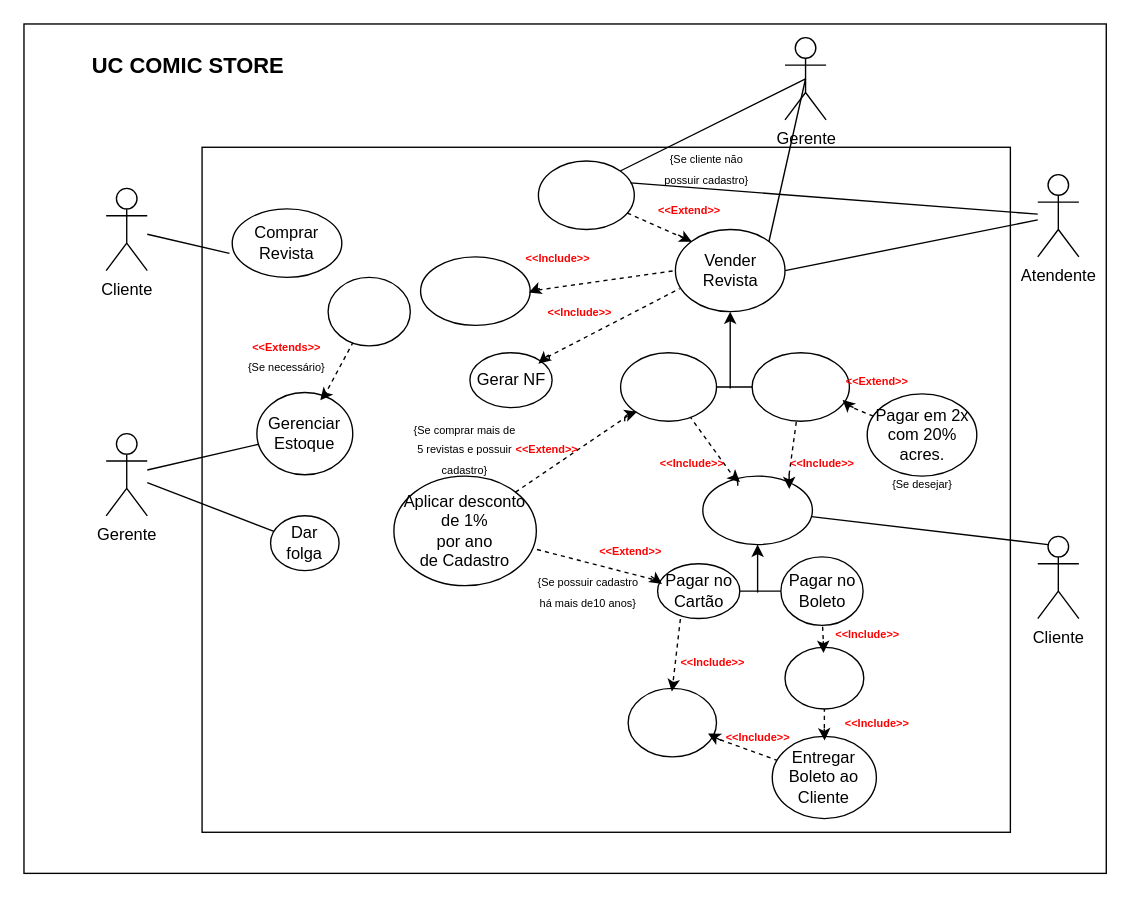
This 1130x897 diagram has some shape labels left out. Here are the shapes that lost their labels. From the top down, the centre of each, then its label:
the point at 585,194: Cadastrar Cliente
the point at 474,290: Atualizar Estoque
the point at 368,311: Repor Estoque
the point at 668,386: Vender à Vista
the point at 800,386: Vender à Prazo
the point at 756,510: Efetuar Pagamento
the point at 824,677: Gerar Boleto
the point at 672,722: Cadastrar Venda
